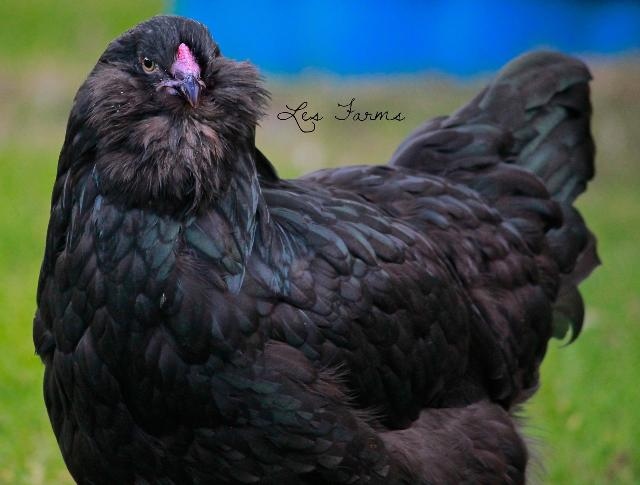Chicken: (34, 16, 601, 484)
